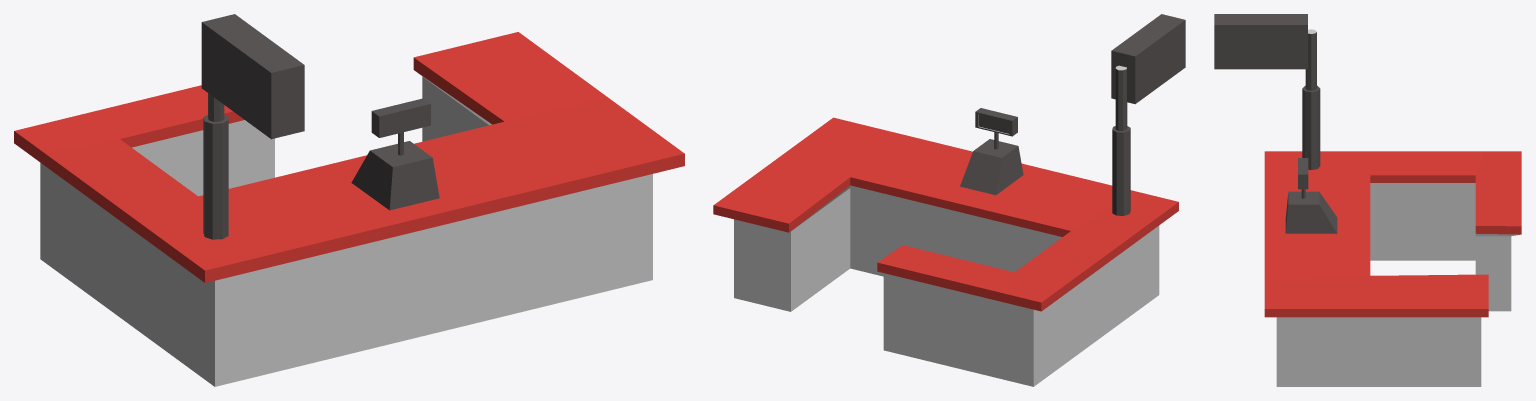
File: caixa.fbx
3 views of the same model, side by side, from view 1: azimuth 30°, elevation 25°; view 2: azimuth 150°, elevation 25°; view 3: azimuth 270°, elevation 25° (orthographic). The views are drawn at different scales.
Visible parts, largest first — view 1: Cube; view 2: Cube; view 3: Cube.
Boxes of the visible parts, x1,y1,x2,y2 form: Cube: (14, 14, 684, 386); Cube: (713, 14, 1185, 386); Cube: (1214, 14, 1521, 386).
Bounding box in the file's own units: 796 × 548 × 657.
